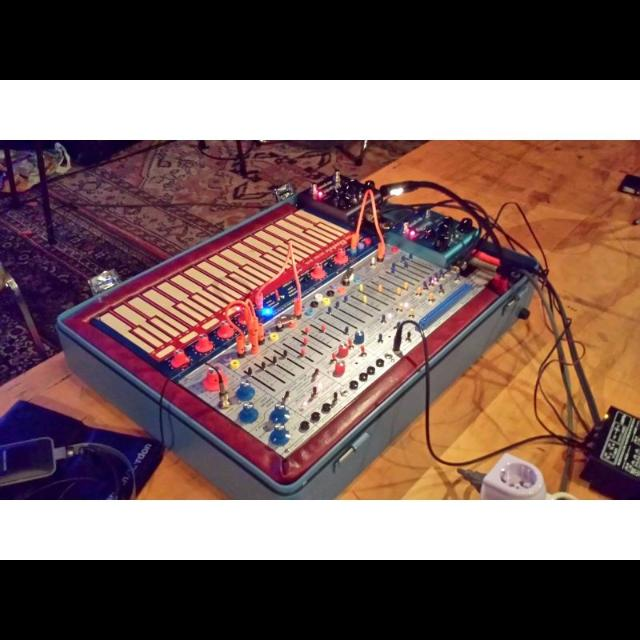Electronic-Keyboard: (59, 218, 509, 484)
